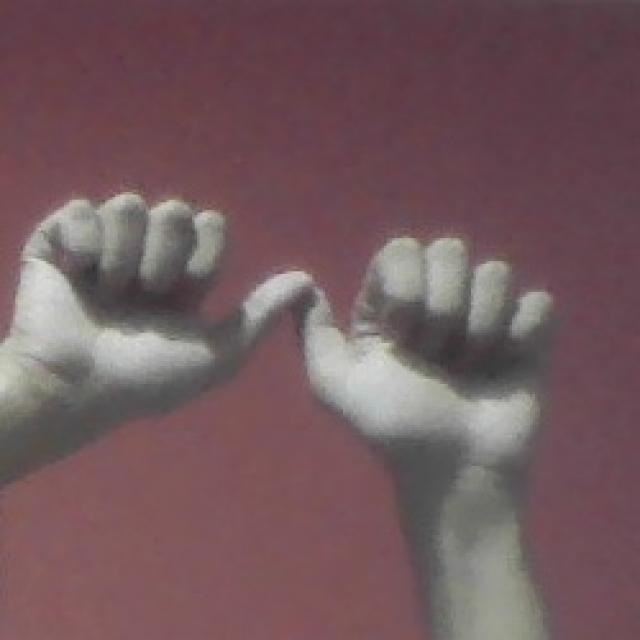Alphabet-A: (19, 186, 563, 494)
